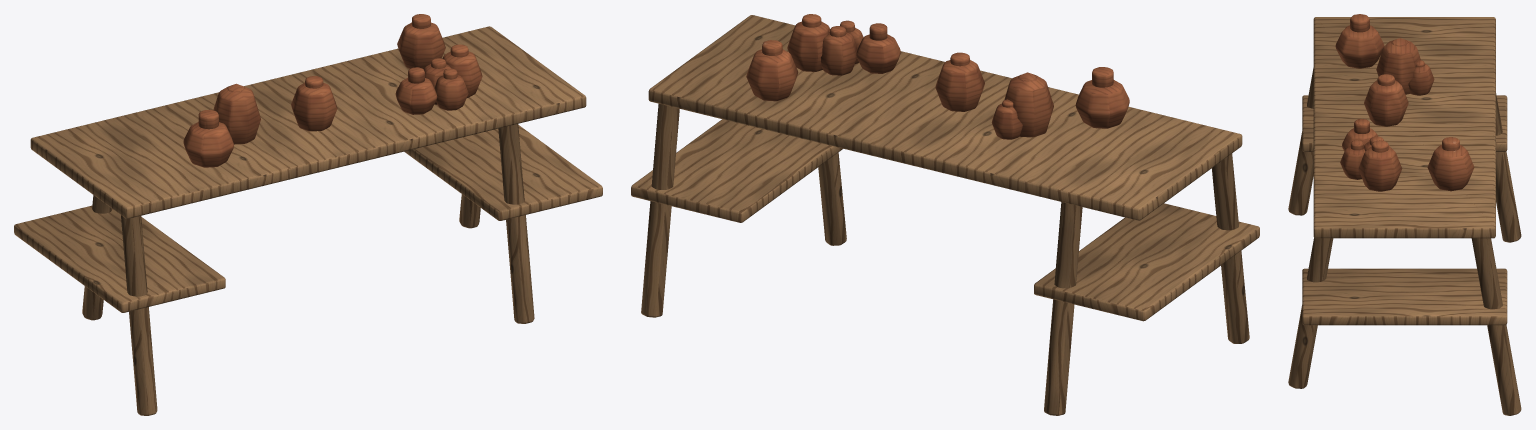
Rendered from trestle_pottery.glb.
3 renders of one model, left to right at view 1: azimuth 30°, elevation 25°; view 2: azimuth 150°, elevation 25°; view 3: azimuth 270°, elevation 25°, orthographic. The views are drawn at different scales.
Parts seen in each view (by area): view 1: trestle_pottery; view 2: trestle_pottery; view 3: trestle_pottery.
Boxes of the visible parts, x1,y1,x2,y2 form: trestle_pottery: (14,14,602,415); trestle_pottery: (631,14,1259,415); trestle_pottery: (1288,14,1521,415).
Size of the model in its own units: 2.3 by 1.17 by 1.02.
2 materials, 2 textured.
